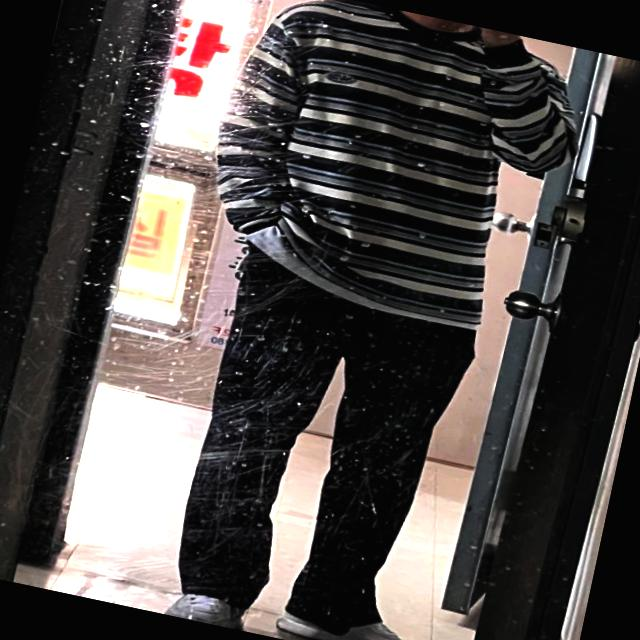longsleeve: (189, 0, 600, 347)
slacks: (166, 239, 492, 640)
